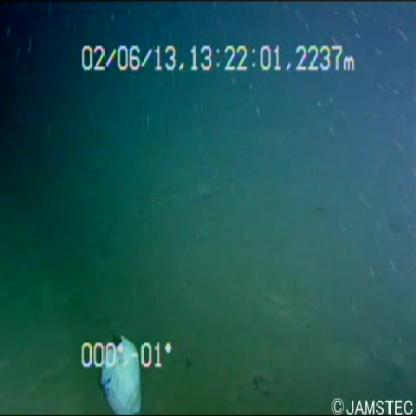Rác: (76, 318, 161, 416)
